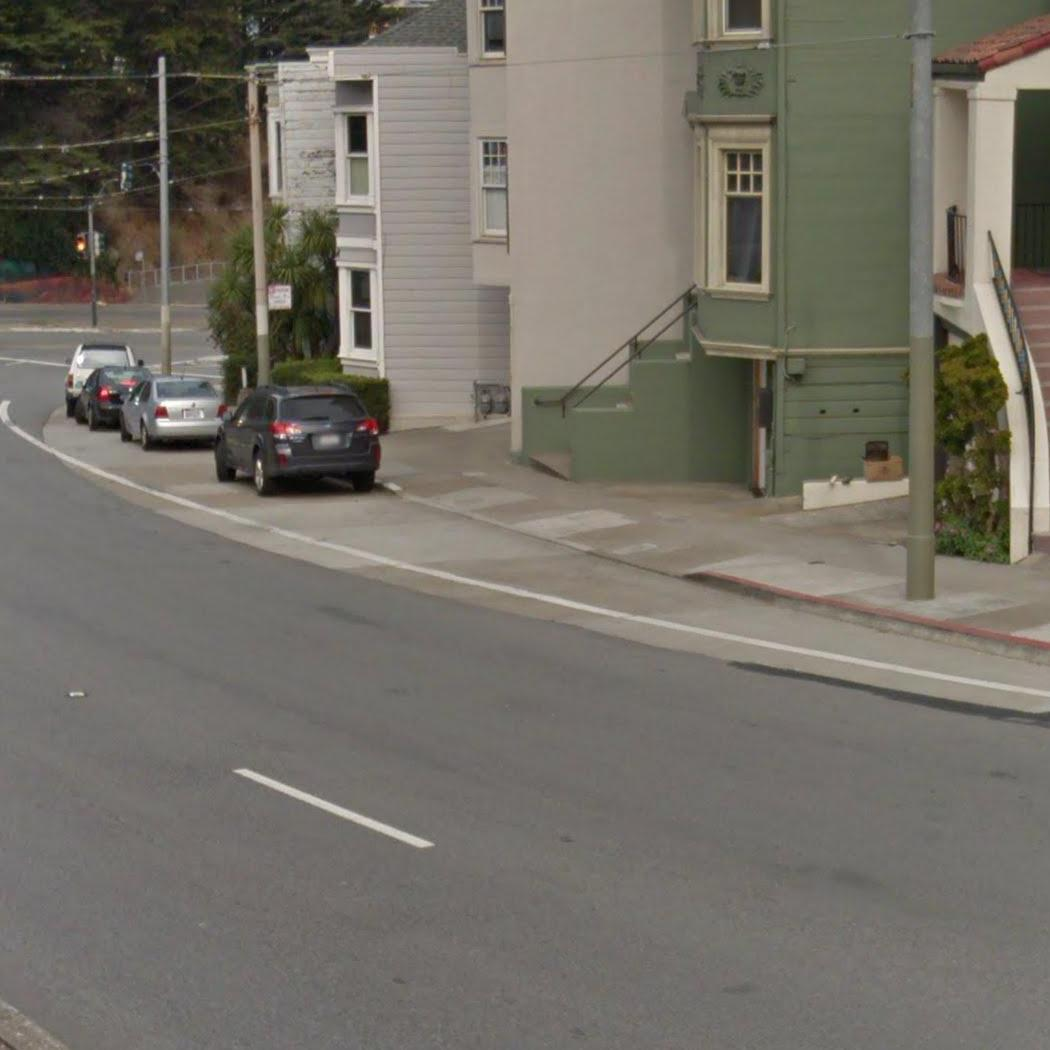No Parking: (268, 285, 292, 310)
